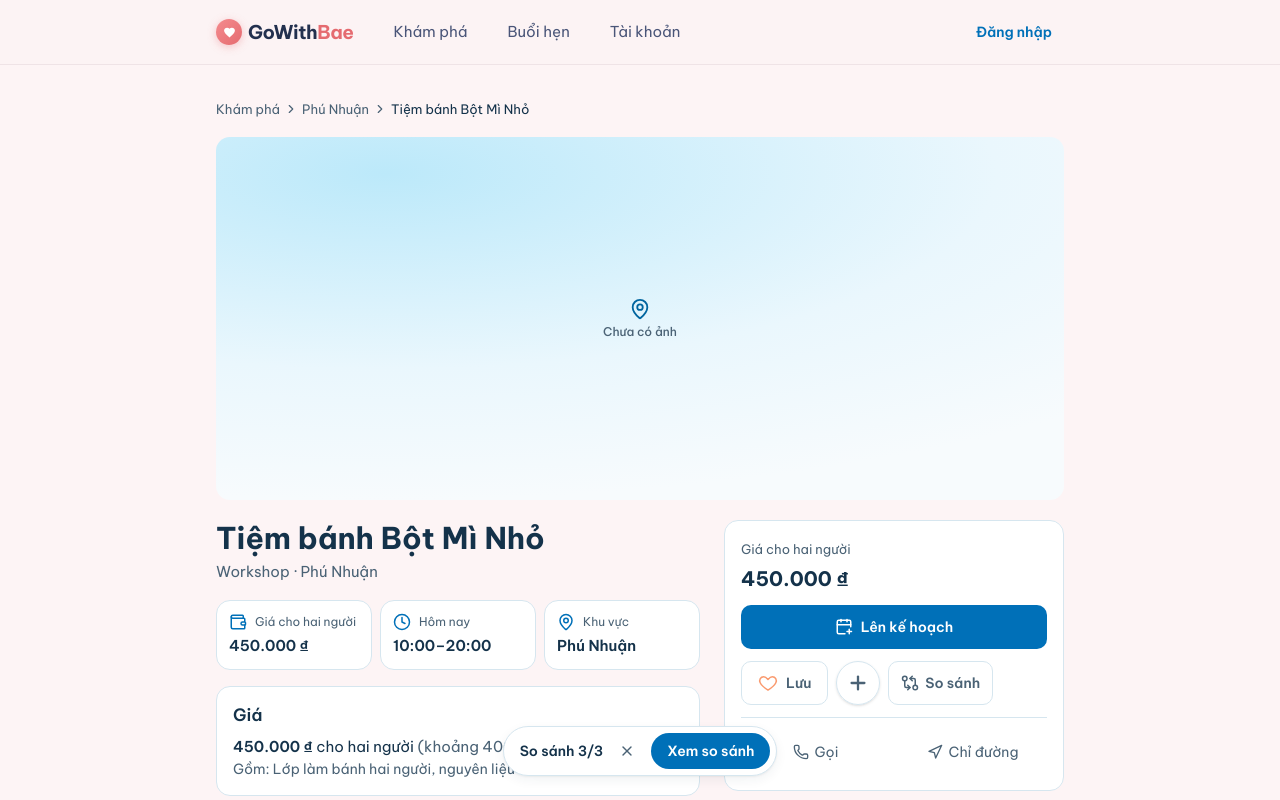
UC-002/003 Chi tiết và so sánh › AC-005: đã có 3 nơi trong khay thì không thêm nơi thứ tư
Expected: the heading "Tiệm bánh Bột Mì Nhỏ" is shown, x1=216 y1=519 x2=545 y2=557
What coordinates should you click on to do the following:
click the button with aria-label "So sánh Tiệm bánh"
I would click on:
 (941, 683)
Its box is x1=888 y1=661 x2=993 y2=705.
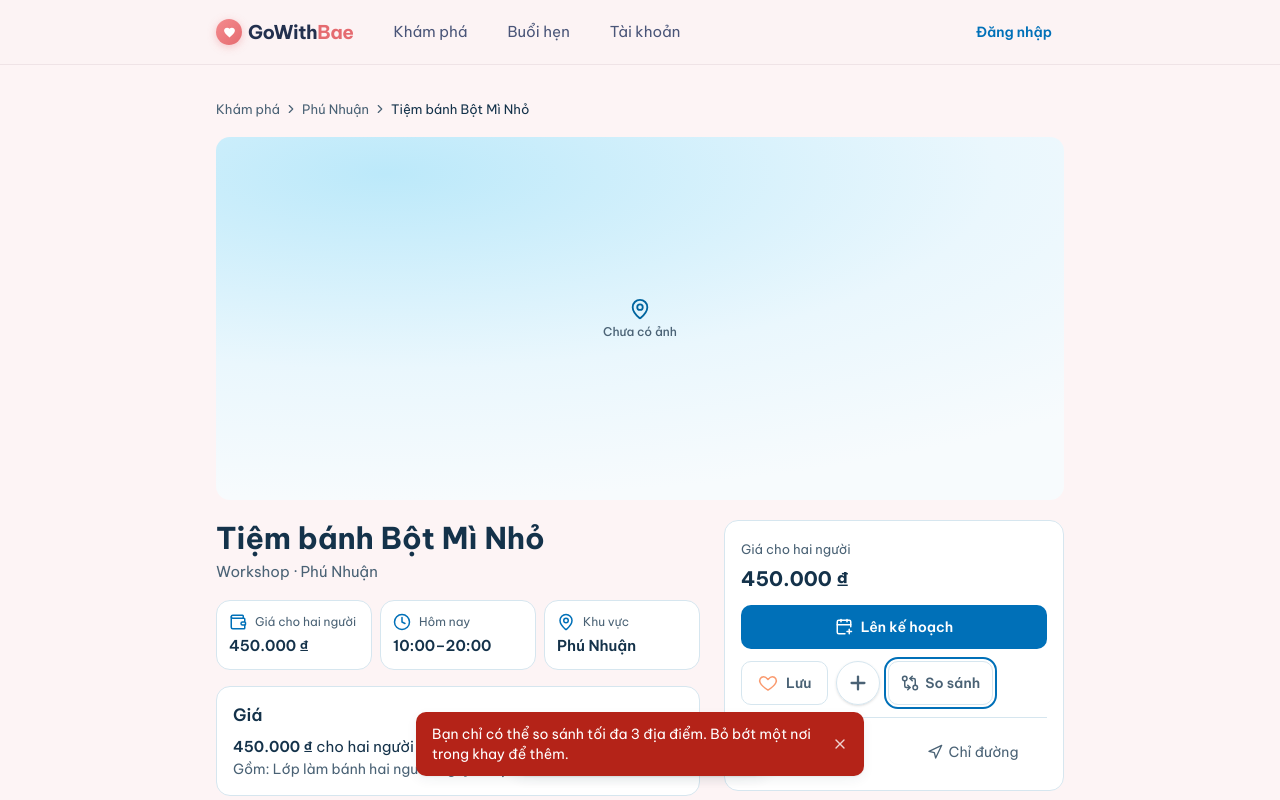
Now the text "Bạn chỉ có thể so sánh tối đa 3 địa điểm" is shown, box x1=432 y1=725 x2=811 y2=763
